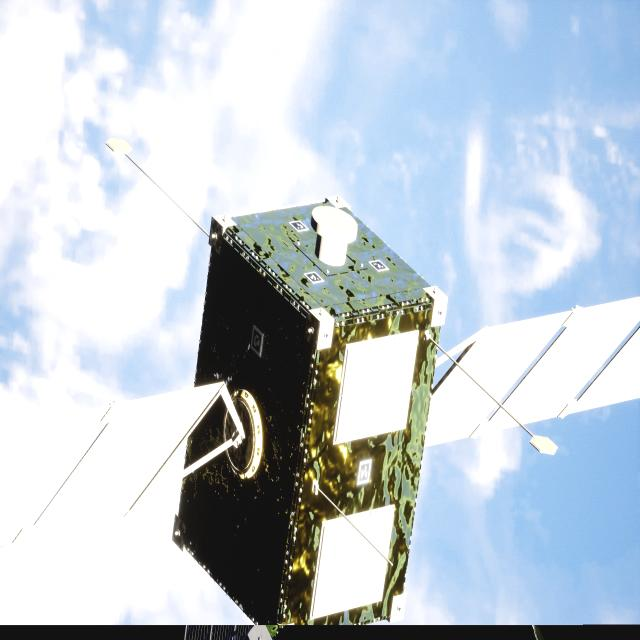medium_debris: (0, 200, 640, 628)
